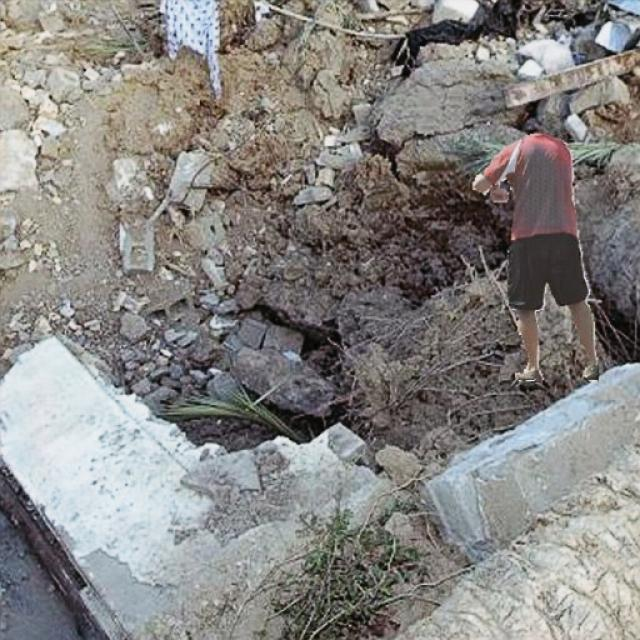Person in Rubble: (472, 132, 598, 382)
